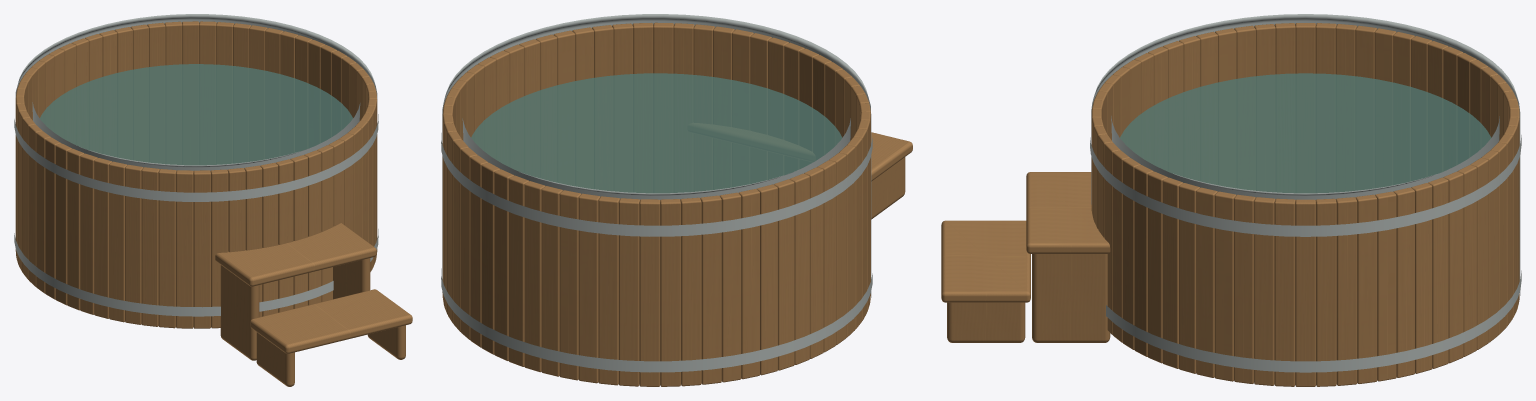
File: premium-tub.glb
3 views of the same model, side by side, from view 1: azimuth 30°, elevation 25°; view 2: azimuth 150°, elevation 25°; view 3: azimuth 270°, elevation 25° (orthographic). The views are drawn at different scales.
Parts seen in each view (by area): view 1: premium-tub; view 2: premium-tub; view 3: premium-tub.
Boxes of the visible parts, x1,y1,x2,y2 form: premium-tub: [14, 14, 412, 386]; premium-tub: [441, 14, 912, 386]; premium-tub: [941, 14, 1521, 386].
Bounding box in the file's own units: 1.93 × 1.02 × 2.6.
Materials: 3 (1 with a texture image).
